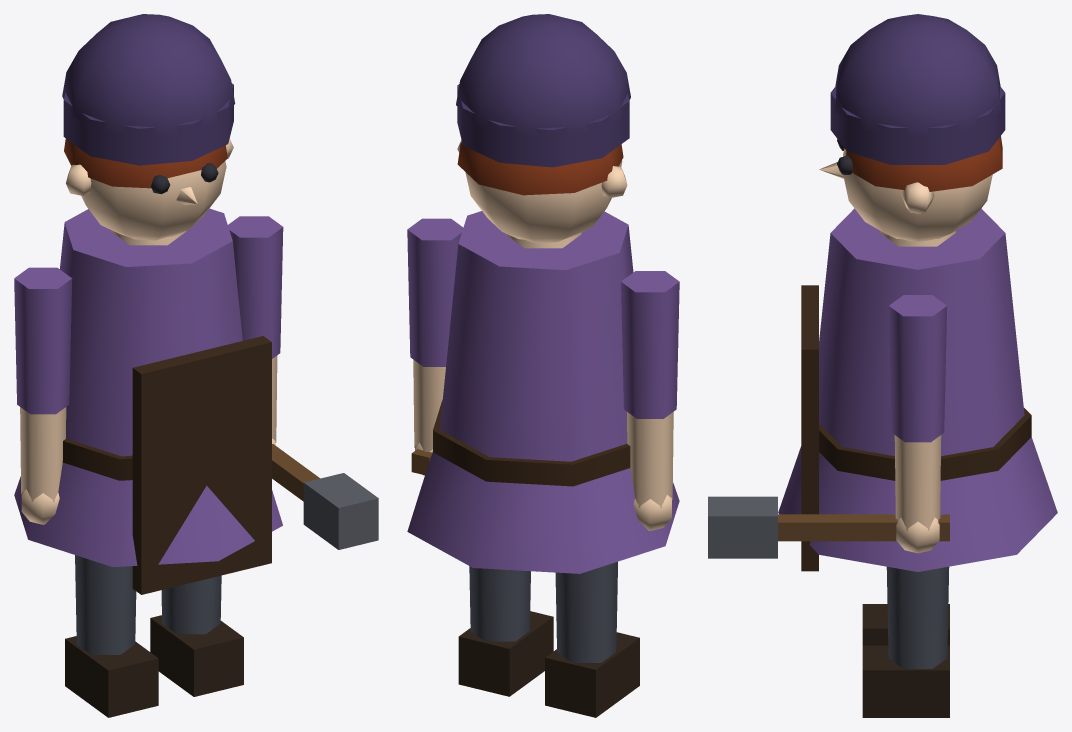
File: w_muenzpraege.glb
3 renders of one model, left to right at view 1: azimuth 30°, elevation 25°; view 2: azimuth 150°, elevation 25°; view 3: azimuth 270°, elevation 25°, orthographic.
Parts seen in each view (by area): view 1: worker, arm_l, arm_r, leg_l, leg_r; view 2: worker, arm_l, leg_l, leg_r, arm_r; view 3: worker, arm_r, leg_r, leg_l.
Boxes of the visible parts, left/top/right/bottom form: worker: left=14, top=14, right=282, bottom=594; arm_l: left=14, top=267, right=72, bottom=524; arm_r: left=228, top=216, right=378, bottom=549; leg_l: left=65, top=555, right=158, bottom=717; leg_r: left=150, top=575, right=243, bottom=696; worker: left=407, top=14, right=679, bottom=573; arm_l: left=621, top=271, right=679, bottom=530; leg_l: left=545, top=561, right=639, bottom=717; leg_r: left=458, top=566, right=553, bottom=696; arm_r: left=407, top=218, right=463, bottom=475; worker: left=778, top=14, right=1057, bottom=571; arm_r: left=708, top=295, right=949, bottom=558; leg_r: left=862, top=566, right=949, bottom=717; leg_l: left=862, top=604, right=949, bottom=645.
Bounding box in the file's own units: 0.4053 × 1 × 0.48.
